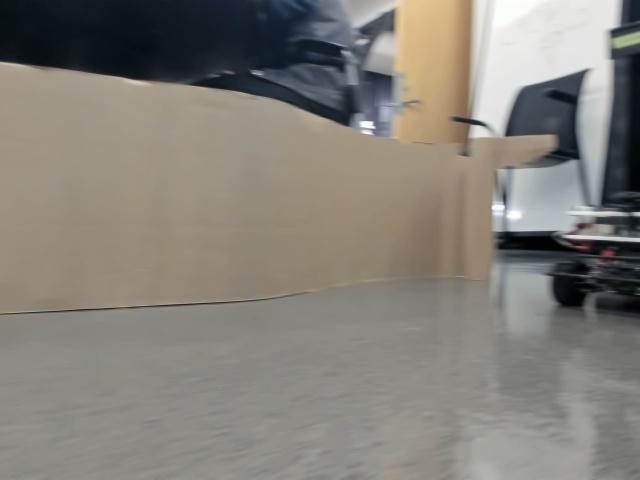Car: (550, 186, 639, 314)
